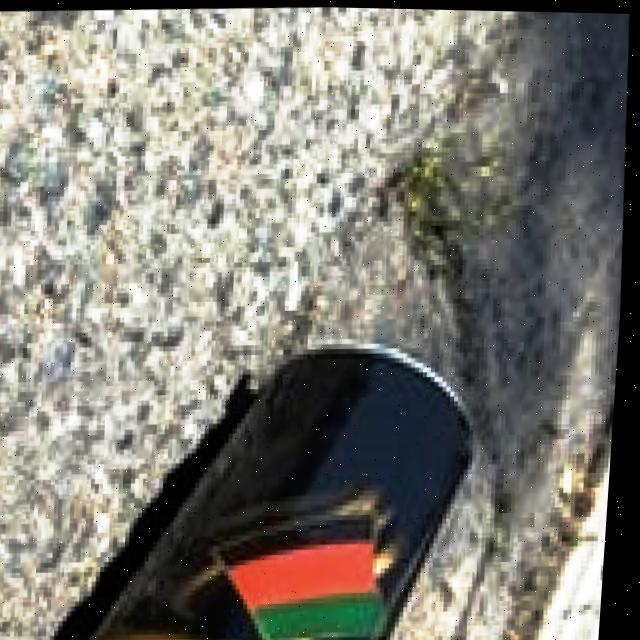Lata: (52, 345, 474, 640)
